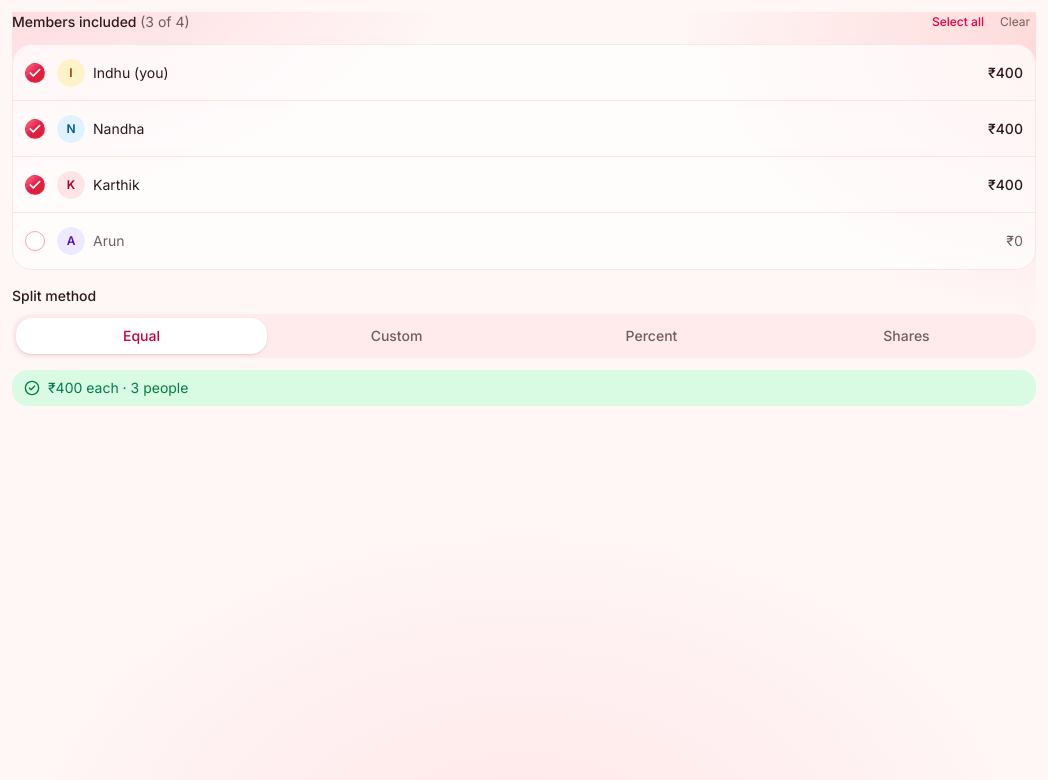
Test: SplitEditor › custom mode shows what is left to assign
Click the radio button labelled "Custom": (396, 336) [271,318,522,354]
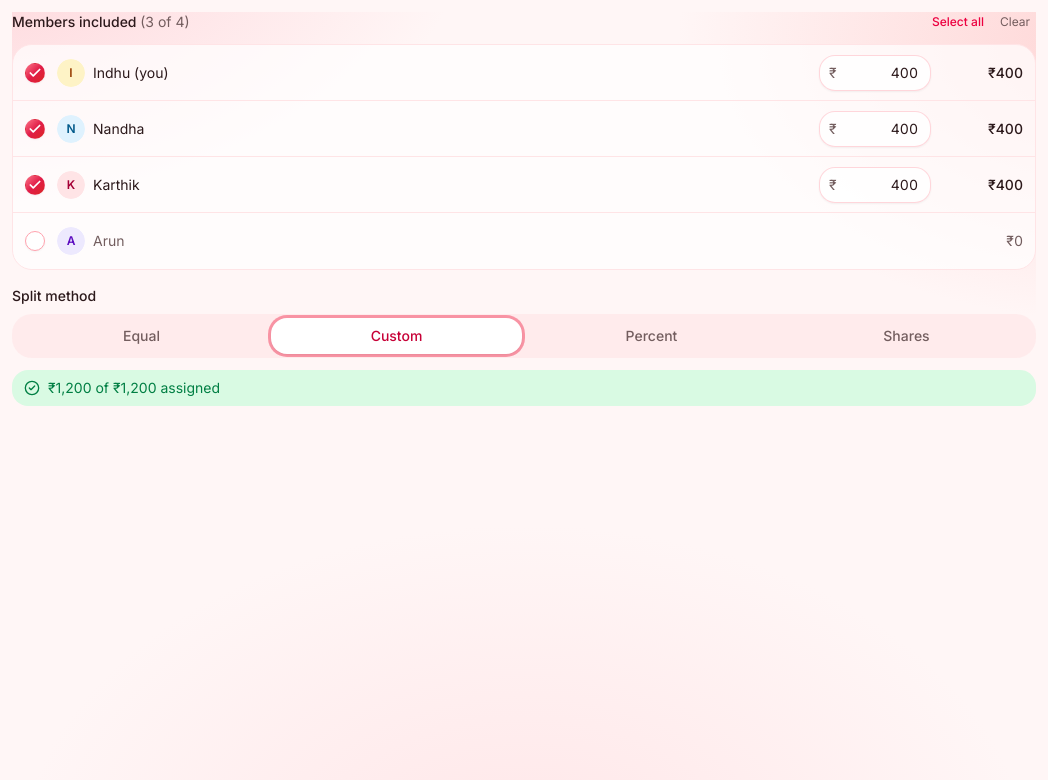
Now the text "₹1,200 of ₹1,200 assigned" is shown, box [48,378,220,398]
Replace the text in the field named "Amount for Indhu" with "100": (875, 72) [819,54,931,90]
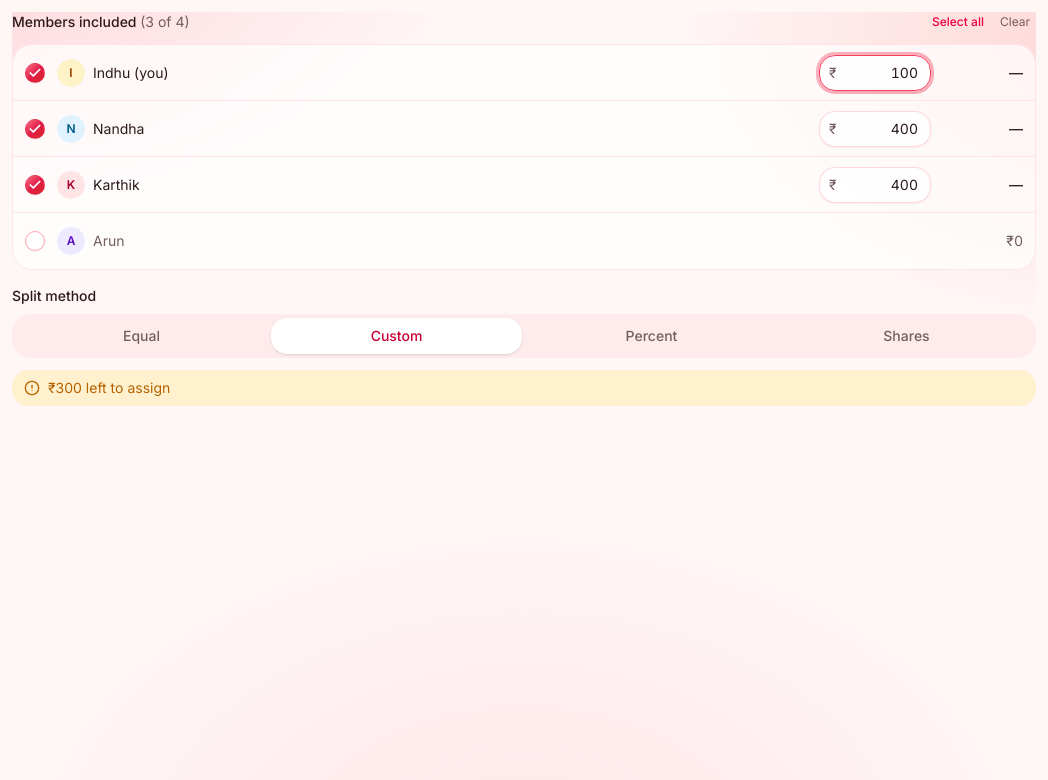
Now the text "₹300 left to assign" is shown, box [48,378,170,398]
